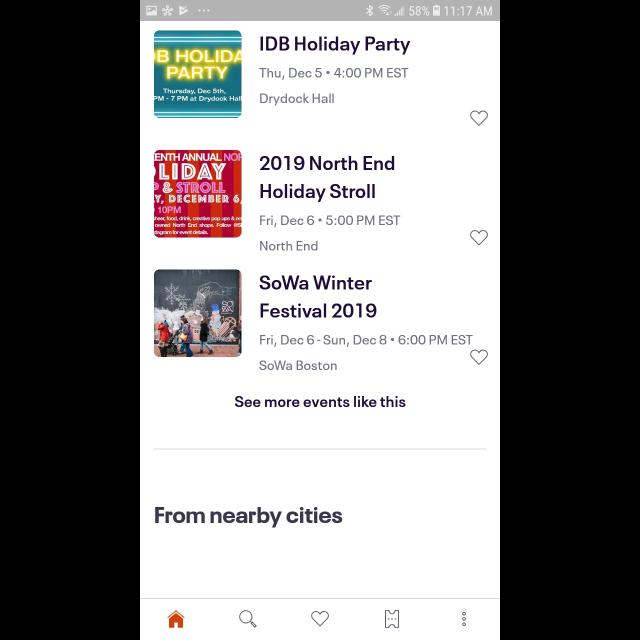icon: (167, 610, 185, 628), (239, 610, 257, 628), (470, 230, 488, 246), (470, 110, 488, 126), (311, 610, 329, 626), (384, 610, 400, 628), (470, 350, 488, 364), (462, 612, 466, 626)
image: (154, 270, 242, 358), (154, 150, 242, 238), (154, 30, 242, 118)
text: (260, 156, 394, 204), (260, 274, 376, 318), (155, 508, 343, 528), (260, 36, 410, 56), (260, 334, 472, 348), (235, 396, 405, 408), (260, 68, 408, 80), (260, 216, 400, 228), (260, 94, 334, 106), (260, 361, 336, 371), (260, 241, 318, 251)
uppertaskbar: (140, 1, 500, 22)
